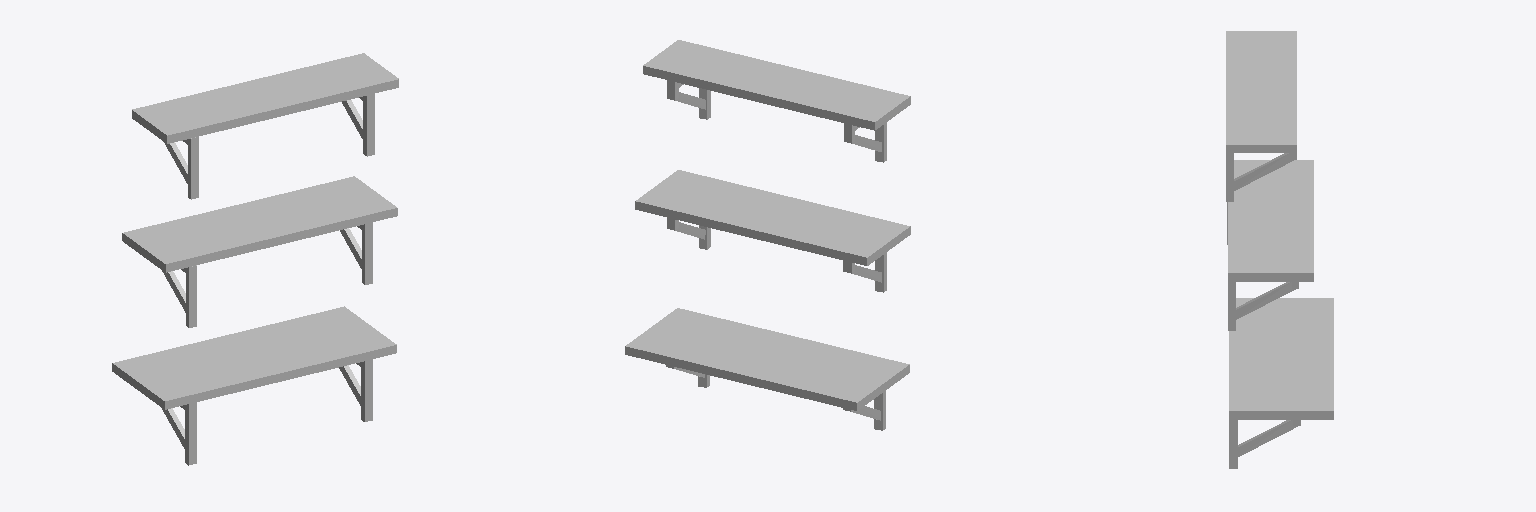
File: wall_shelf.obj
The picture shows the model from 3 angles: view 1: azimuth 30°, elevation 25°; view 2: azimuth 150°, elevation 25°; view 3: azimuth 270°, elevation 25°; orthographic projection.
Size of the model in its own units: 1.44 by 1.98 by 0.58.